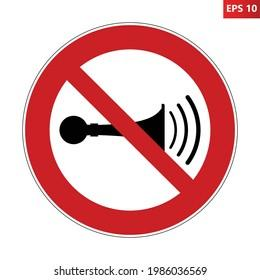Horn Prohibited: (25, 29, 246, 230)
